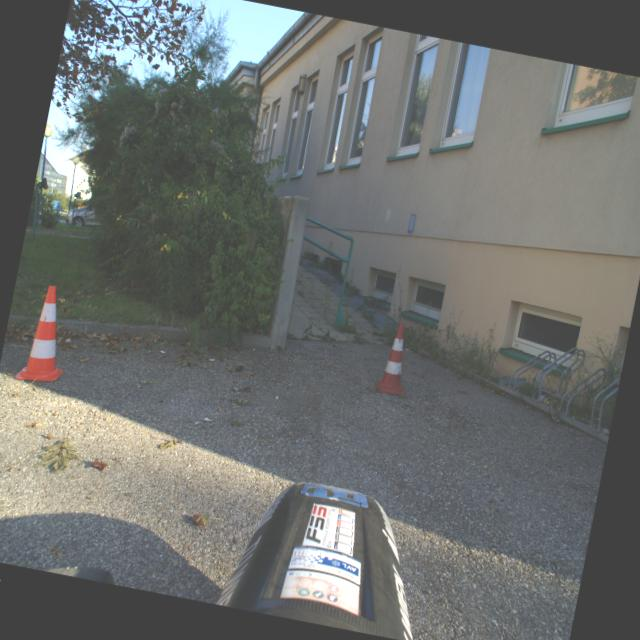large_orange_cone: (15, 282, 78, 388), (373, 320, 418, 397)
